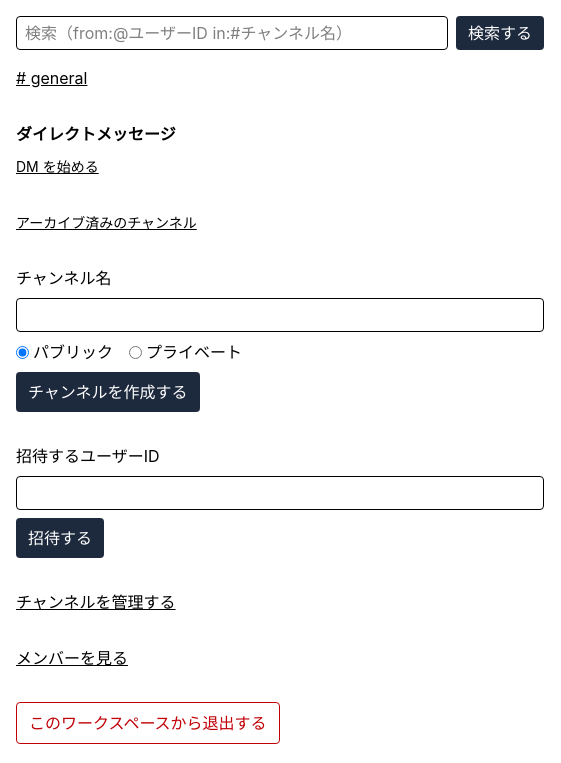
Scenario: ワークスペースのメンバー（F-06・F-09） › キックすると、確かめてから api に送り、一覧から外す
The image size is (561, 763).
(page scrolled)
Click the button "メンバーを見る".
click(72, 658)  # box [16,646,128,670]
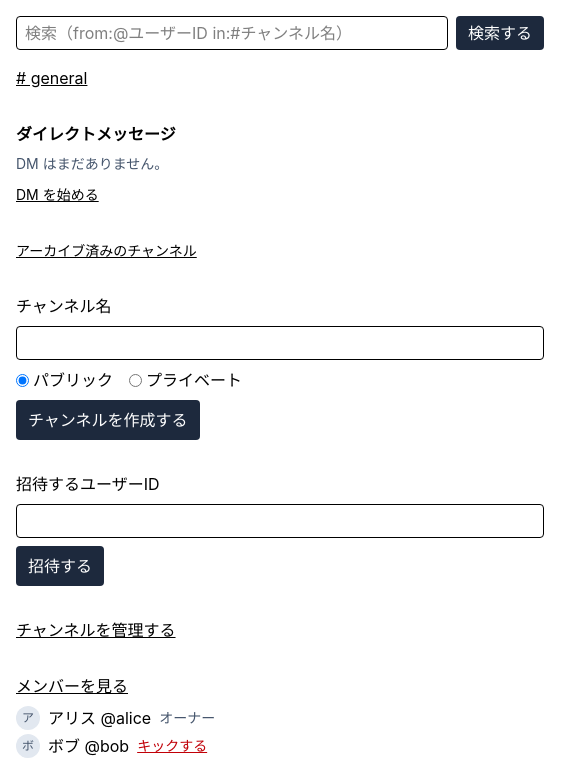
Click the button with aria-label "ボブ をキックする".
click(172, 746)  # box [137,736,207,756]
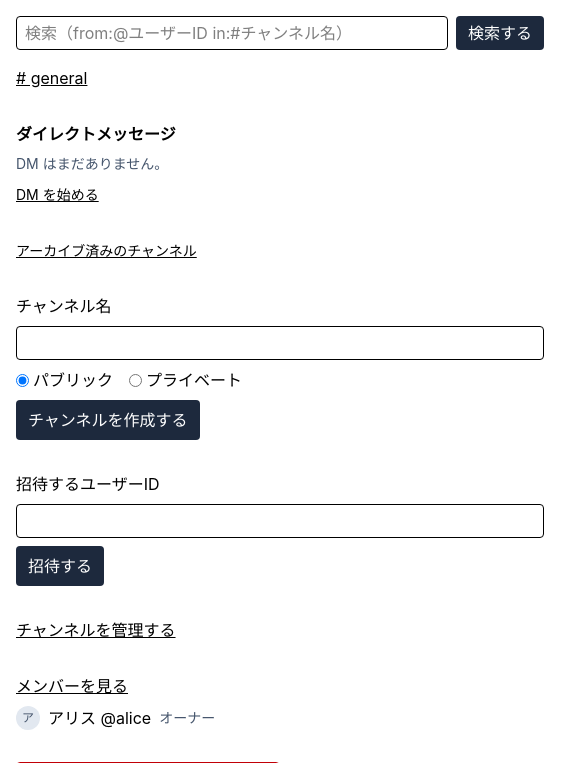
Result: the text "アリス @alice" is shown at [48,706,151,730]
Result: the text "ボブ" is gone
